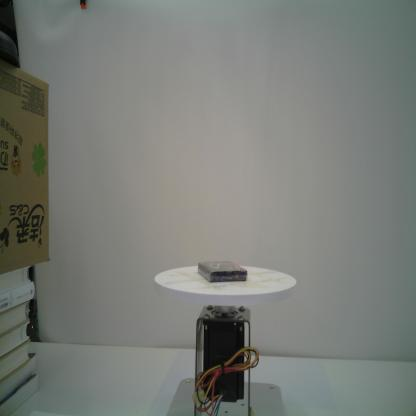Gum: (196, 257, 248, 286)
